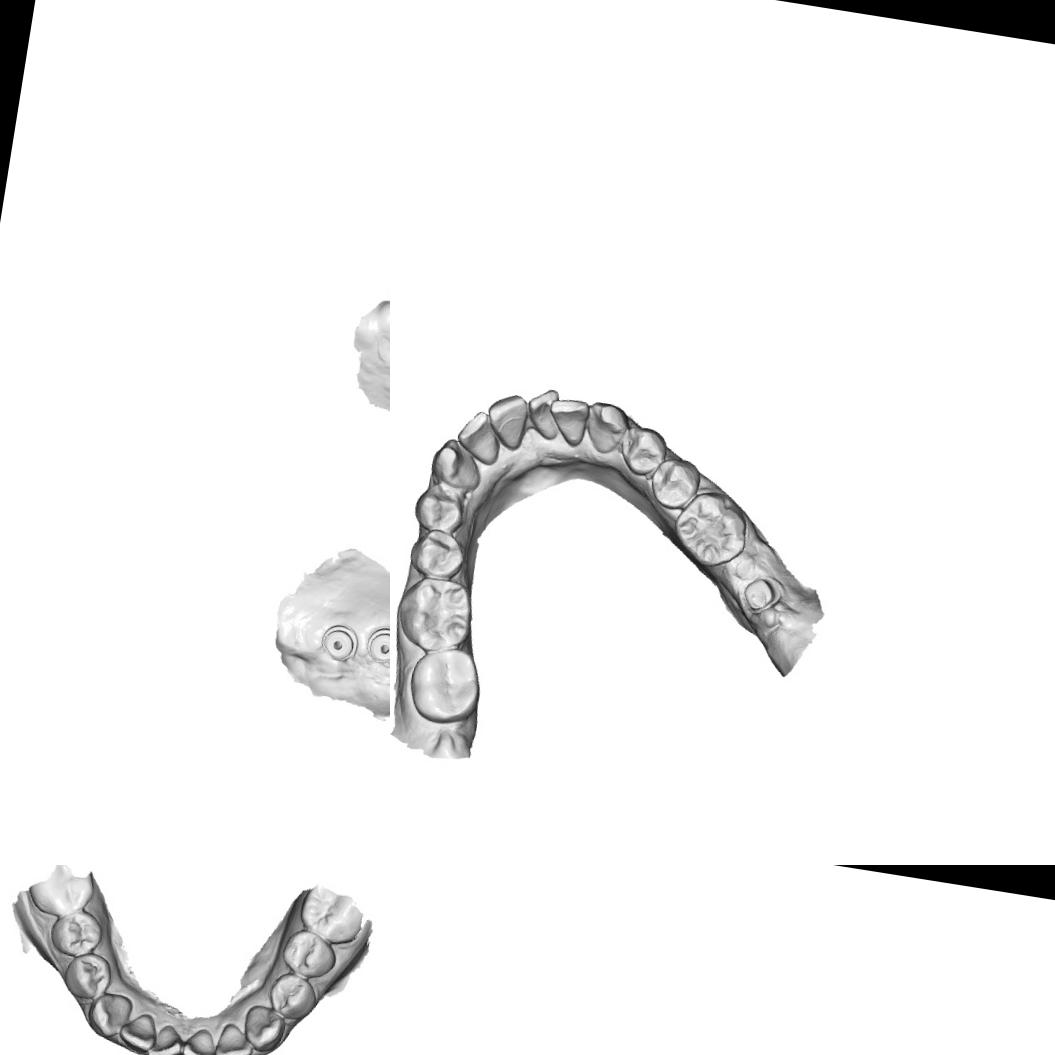abutment: (738, 572, 784, 620)
canine: (423, 433, 488, 494), (579, 398, 634, 459), (84, 989, 135, 1042), (240, 1002, 289, 1055)
implant: (313, 619, 366, 668), (358, 621, 390, 672)
incisor: (478, 389, 533, 454), (452, 406, 507, 468), (542, 393, 596, 450), (520, 383, 566, 444), (115, 1009, 160, 1055), (212, 1021, 257, 1055), (145, 1021, 187, 1055), (180, 1025, 222, 1055)
molar: (390, 570, 480, 661), (666, 484, 754, 574), (402, 640, 489, 731), (295, 879, 368, 948)
premolar: (402, 523, 472, 586), (644, 452, 706, 515), (409, 478, 470, 538), (278, 925, 340, 982), (614, 422, 672, 482), (46, 904, 106, 961), (60, 948, 115, 1003), (265, 970, 321, 1024)
